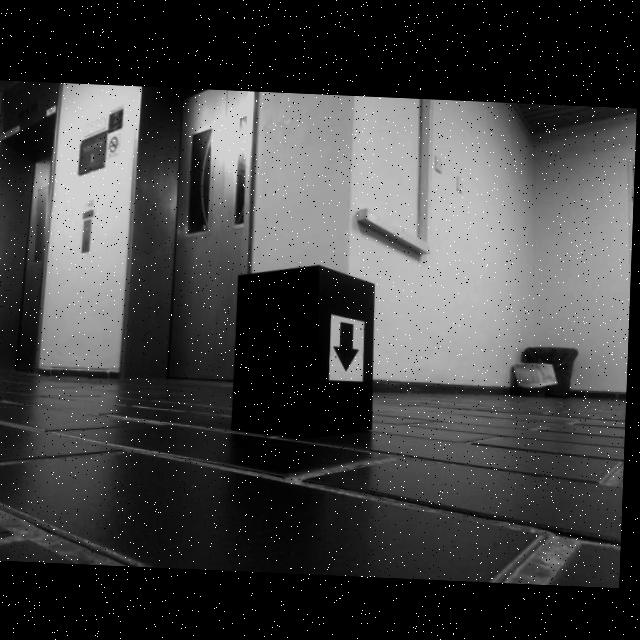DOWN: (335, 319, 363, 370)
